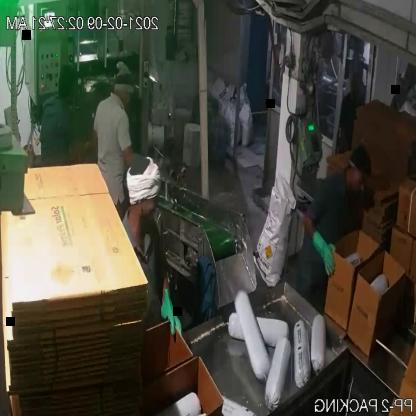glove: (307, 220, 341, 286), (158, 276, 188, 349)
